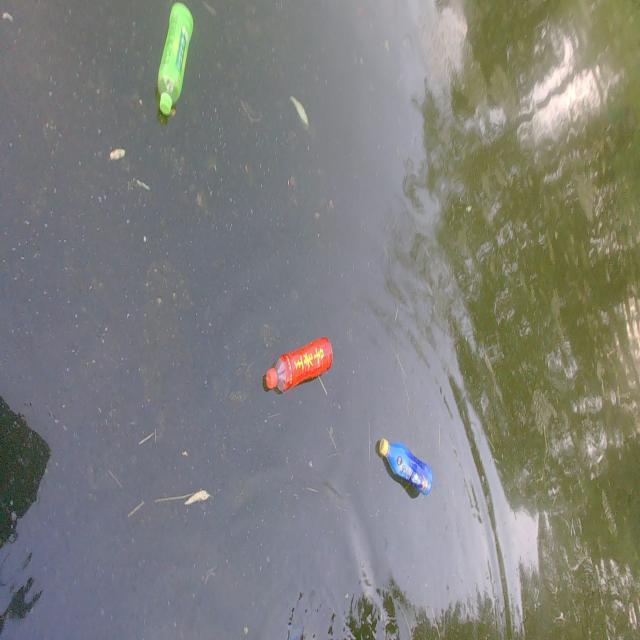bottle: (251, 326, 348, 403), (146, 3, 202, 132), (363, 427, 448, 503)
